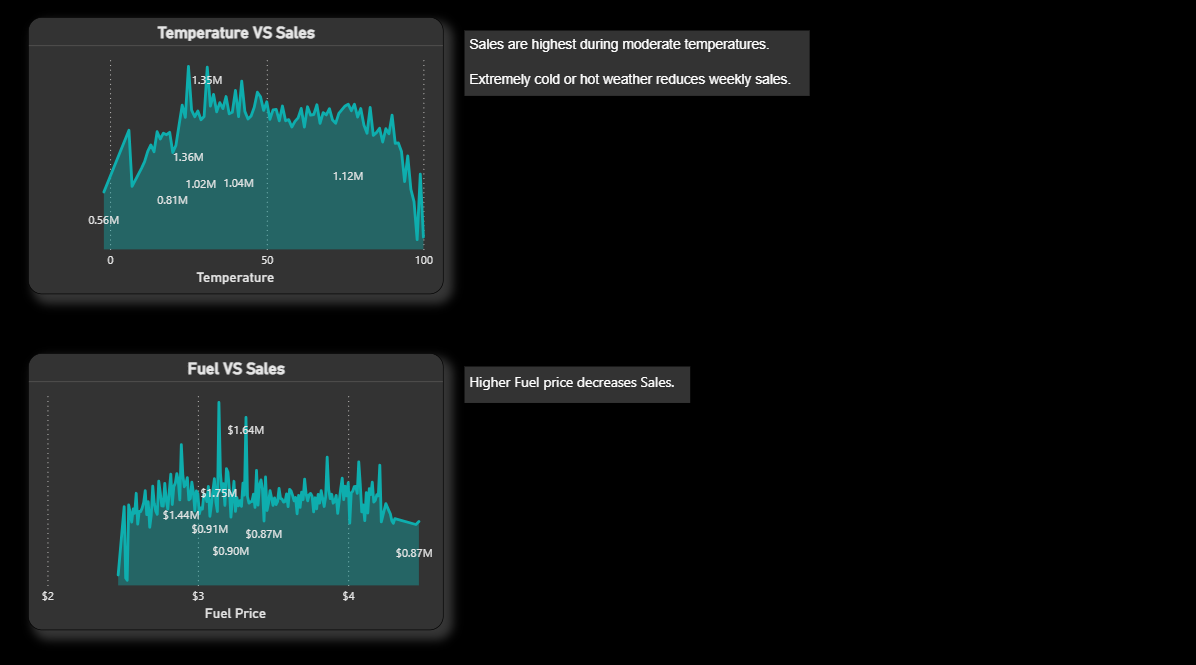

The dashboard page shown, as its layout file describes it:
{"tool":"powerbi","page":{"name":"Page 3","canvas":[1280,720],"ordinal":2},"visuals":[{"type":"stackedAreaChart","title":"Temperature VS Sales","fields":{"Category":["tmp vs sales.temp"],"Y":["Sum(tmp vs sales.avg_sales)"]},"box":[31.7,25.9,440.6,293.8],"z":0},{"type":"textbox","box":[495.4,40.3,365.8,69.1],"z":1000},{"type":"stackedAreaChart","title":"Temperature VS Sales","fields":{"Y":["Sum(fuel vs sales.avg_sales)"],"Category":["fuel vs sales.fuel_price"]},"box":[31.7,381.6,440.6,293.8],"z":1001},{"type":"textbox","box":[495.4,396,239,38.9],"z":1002}]}

Visuals, with their boxes in screenshot pixels (x1, y1, x2, y2), scaled from the page's 1280x720 canvas onto the 1196x665 screenshot:
"Temperature VS Sales" stackedAreaChart: 30, 24, 441, 295
textbox: 463, 37, 805, 101
"Temperature VS Sales" stackedAreaChart: 30, 352, 441, 624
textbox: 463, 366, 686, 402
